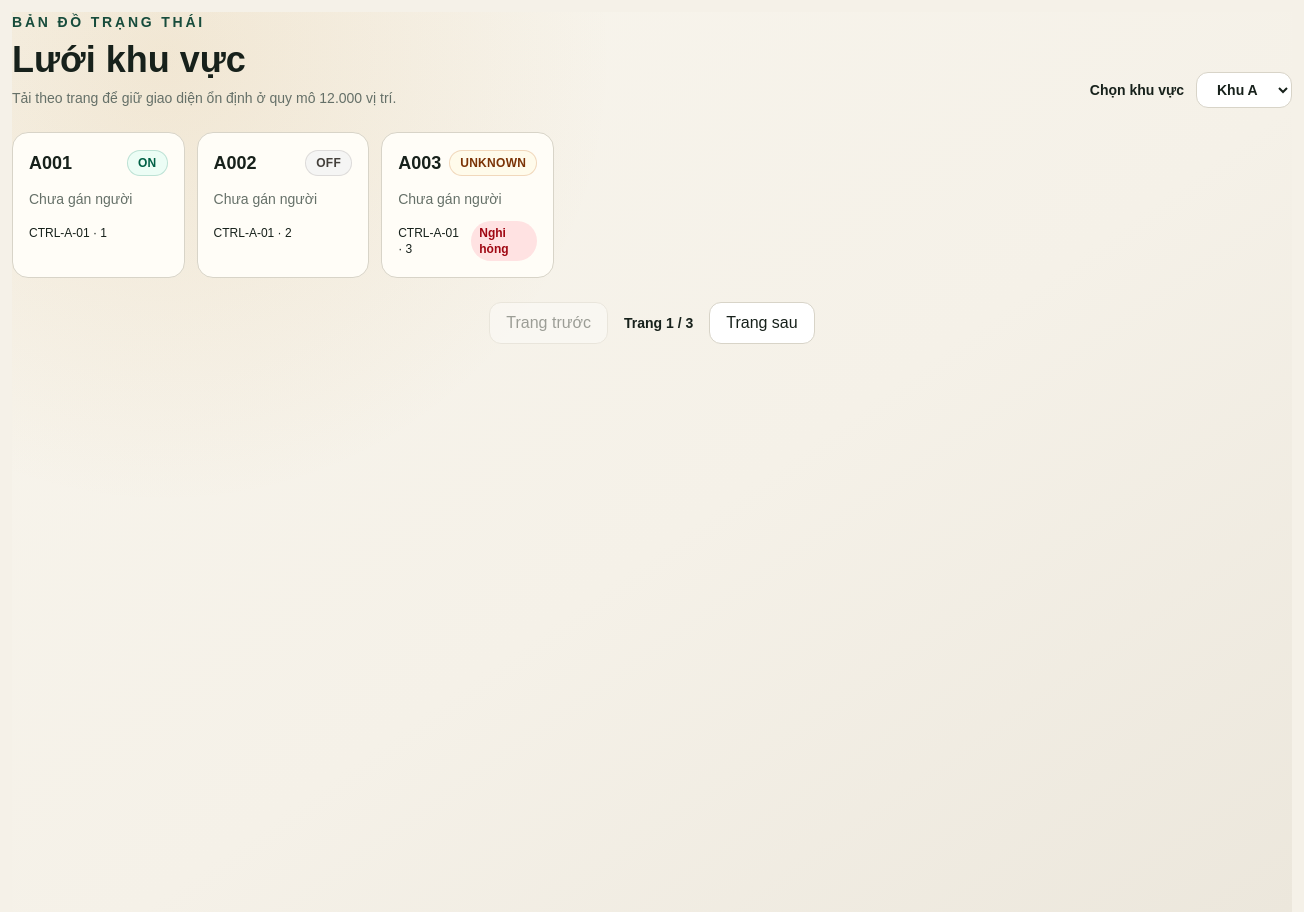
it: renders a paginated zone grid with distinct actual and fault states
This screenshot has width=1304, height=912.
Expected: the link "A001 ON Chưa gán người CTRL-A-01 · 1" is shown, [12,132,185,278]
Expected: the link "A002 OFF Chưa gán người CTRL-A-01 · 2" is shown, [197,132,369,278]
Click the button "Trang sau".
click(762, 323)  # box [709,302,815,344]
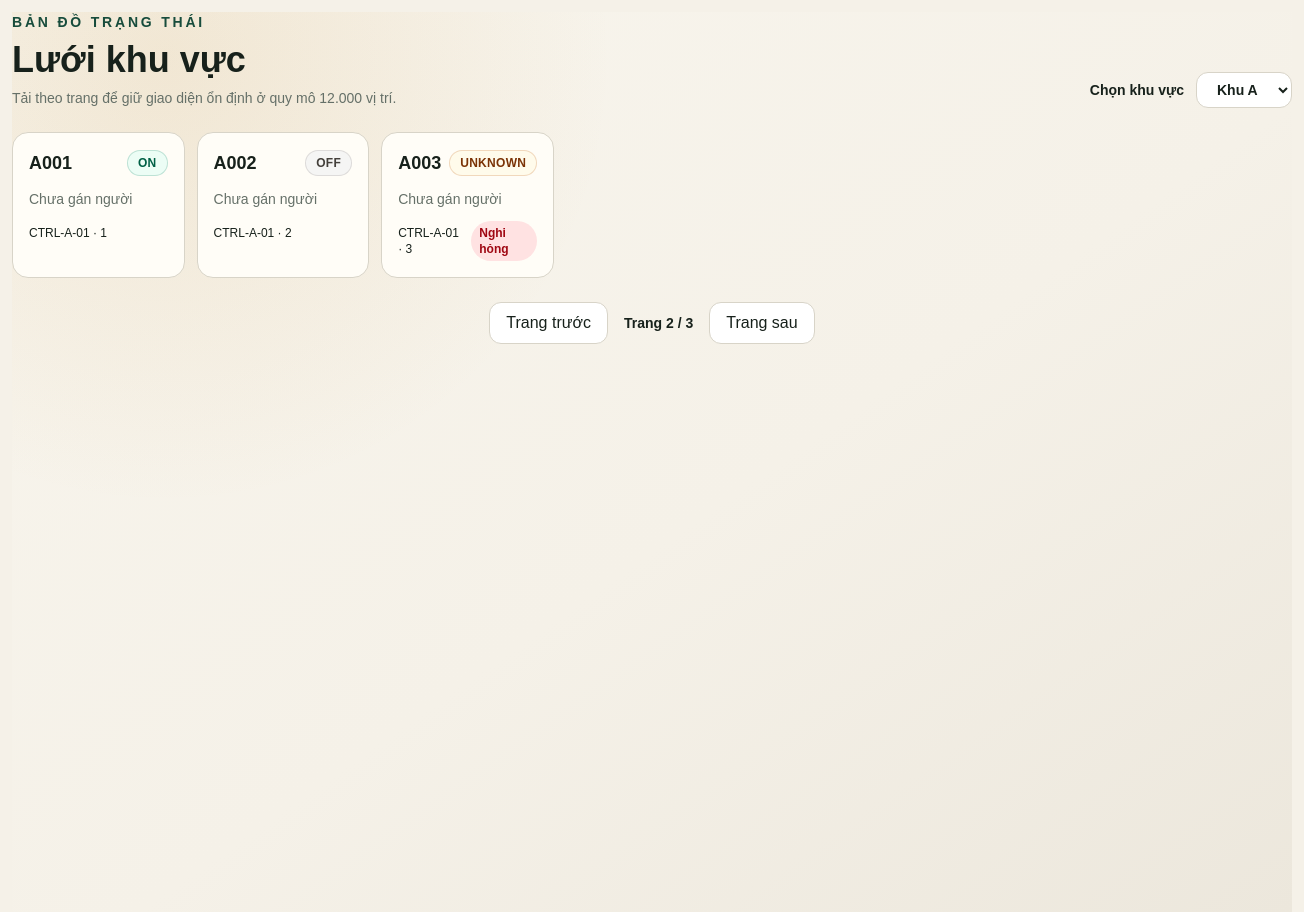
Result: the text "Trang 2 / 3" is shown at [624,313,693,333]
